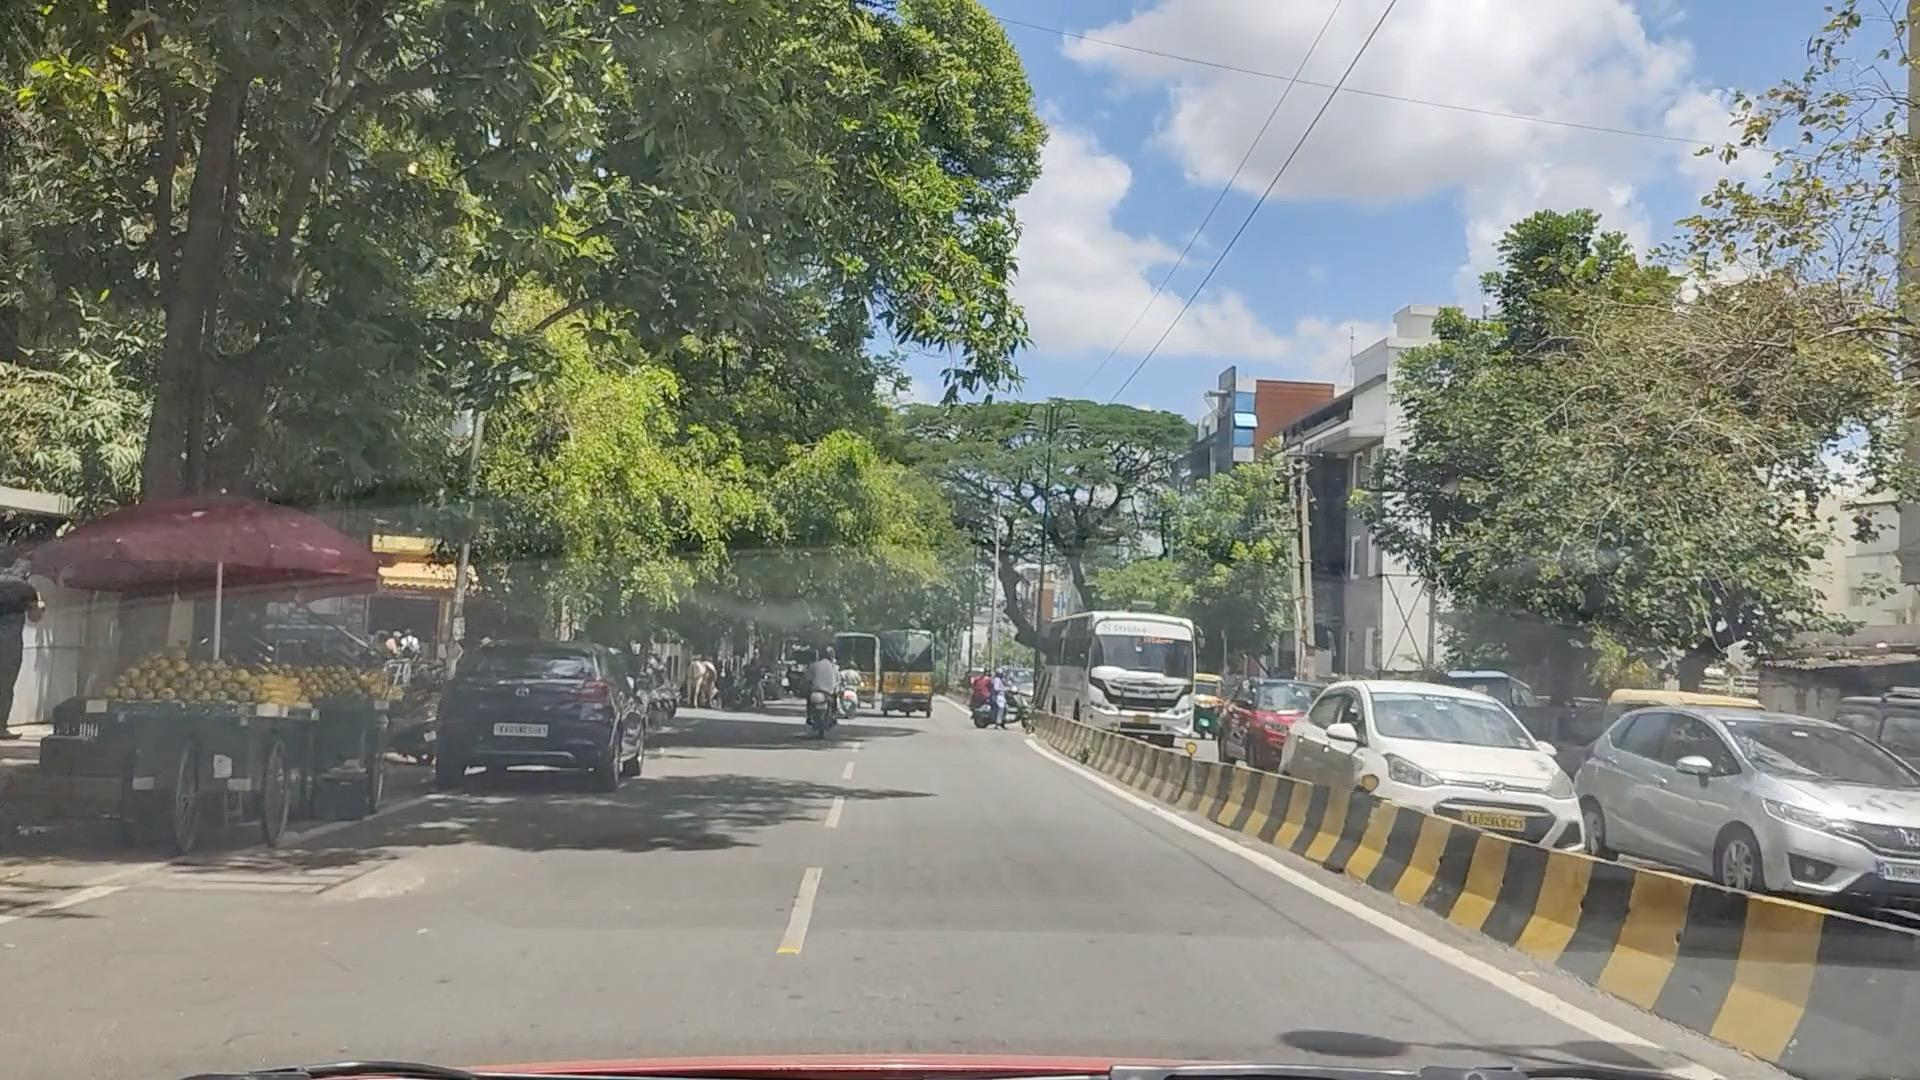LMV: (434, 640, 634, 782), (796, 630, 848, 725)
